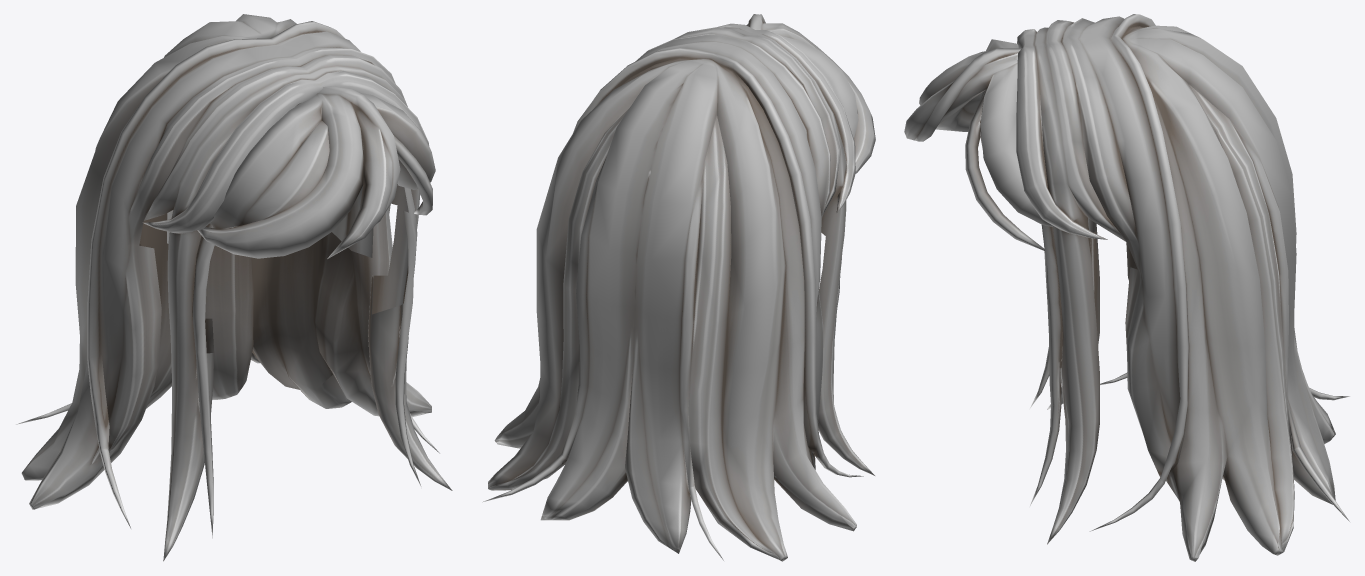
File: hair8.fbx
3 views of the same model, side by side, from view 1: azimuth 30°, elevation 25°; view 2: azimuth 150°, elevation 25°; view 3: azimuth 270°, elevation 25° (orthographic). The views are drawn at different scales.
Parts seen in each view (by area): view 1: hair8; view 2: hair8; view 3: hair8.
Part boxes in pixels (x1,y1,x2,y2): hair8: (16, 14, 452, 561); hair8: (482, 14, 875, 561); hair8: (904, 14, 1349, 561).
Bounding box in the file's own units: 24.8 × 27.62 × 24.99.
1 material, 1 textured.
